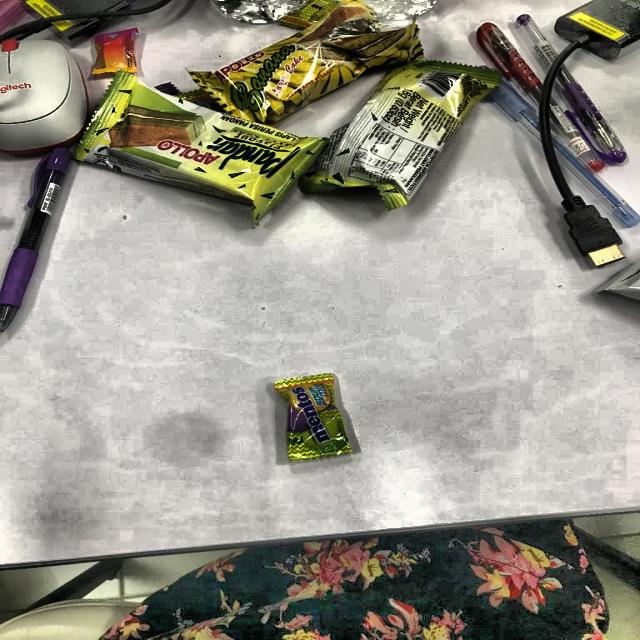Plastic: (98, 80, 310, 230), (336, 63, 492, 203), (205, 8, 415, 103), (274, 375, 358, 461)
